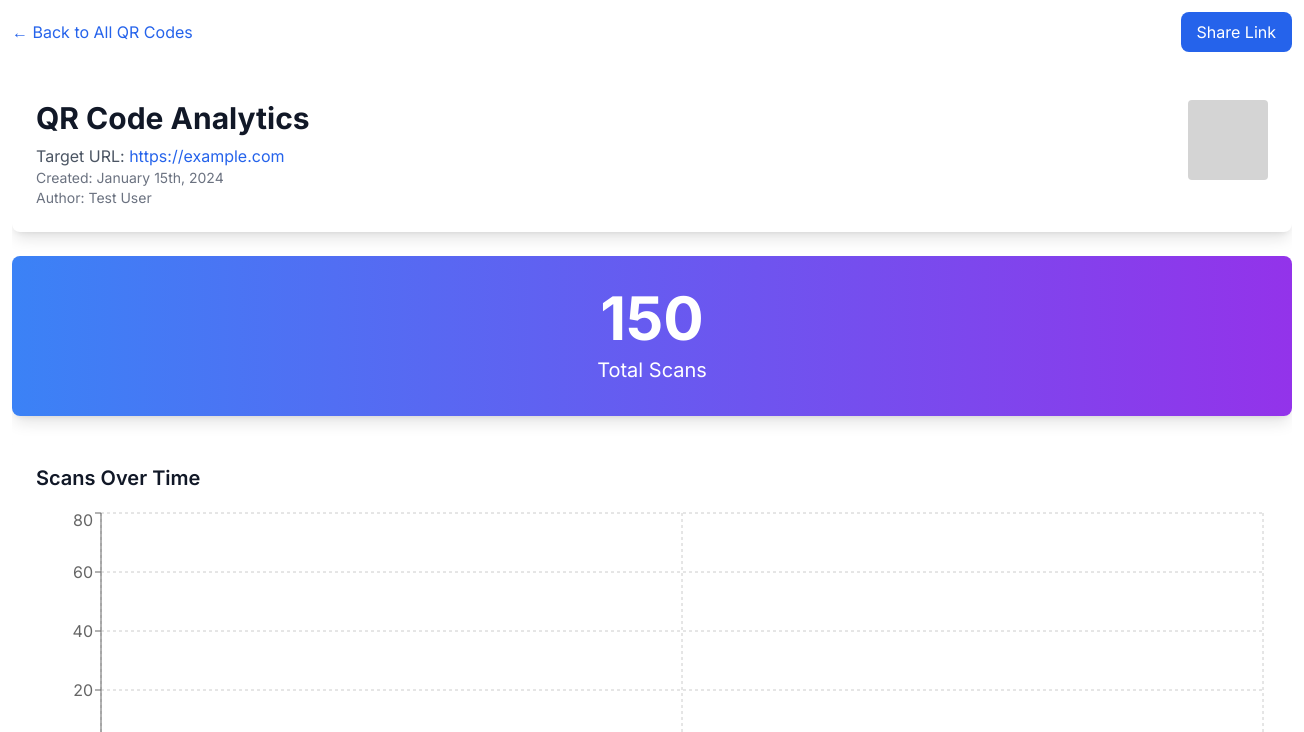
it: AnalyticsDashboard › Share link functionality › should show confirmation message after copying
Step 1. Click the button "Share Link" → point(1236, 32), box [1180,12,1292,52]
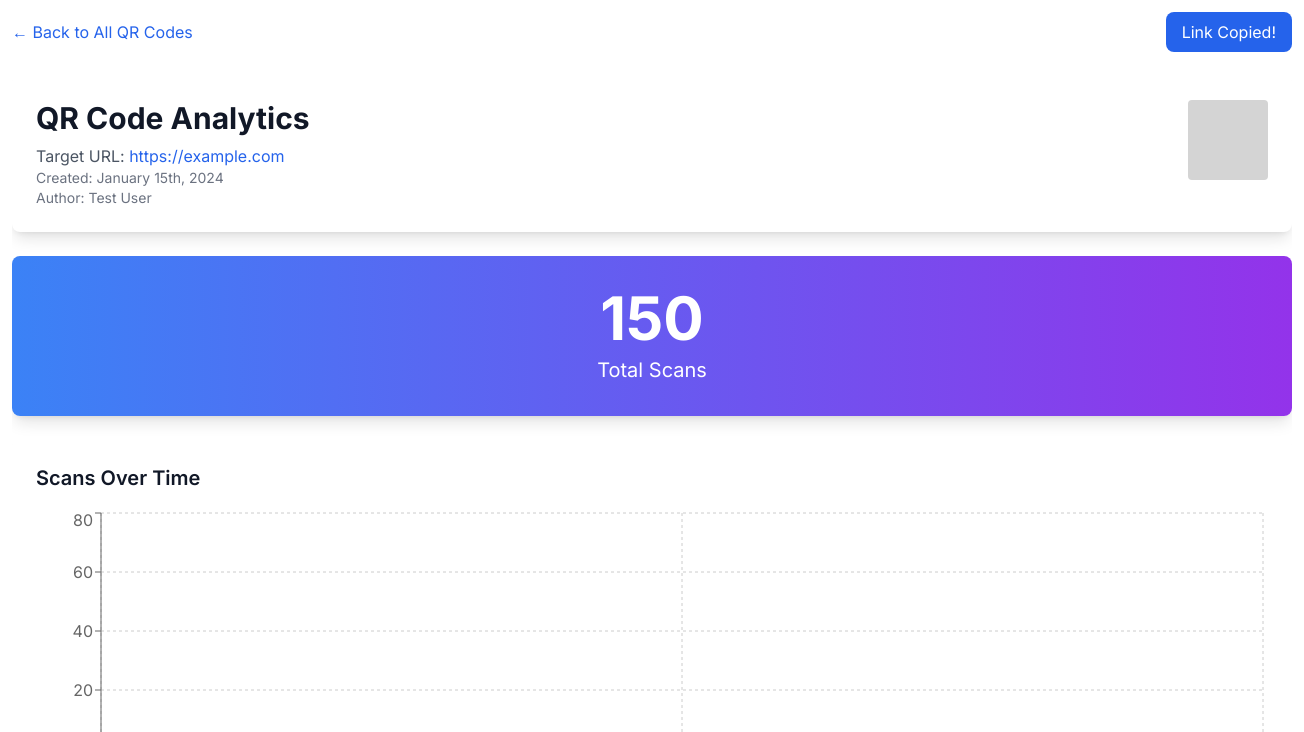
Expected: the button "Link Copied!" is shown, [1166,12,1292,52]
